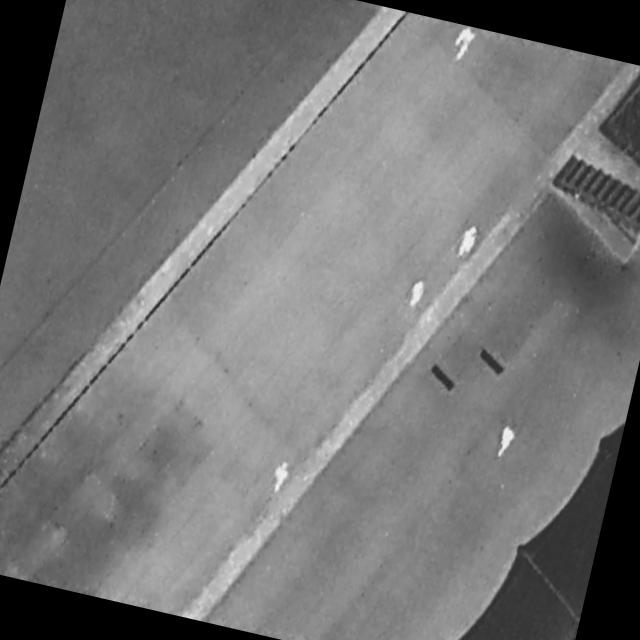person: (451, 219, 484, 264), (450, 25, 480, 65), (267, 456, 294, 497), (406, 274, 431, 311), (497, 423, 518, 460)
